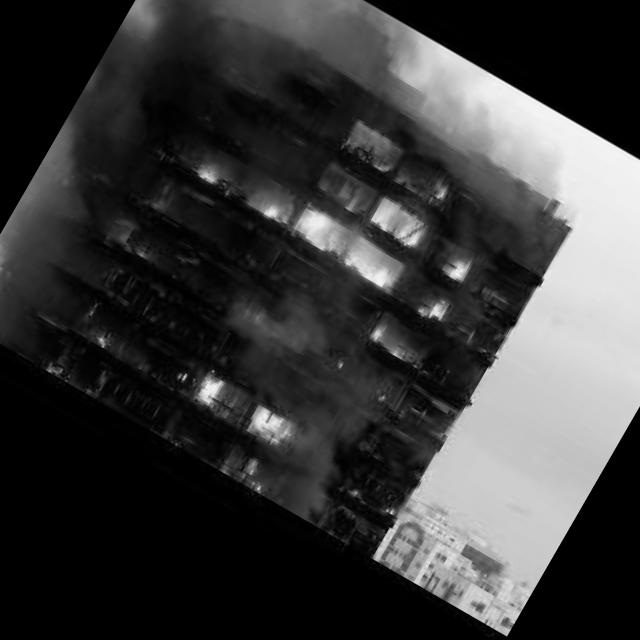fire: (172, 65, 538, 383), (168, 370, 306, 496), (89, 326, 119, 358)
smoke: (0, 0, 283, 368), (237, 0, 603, 226), (196, 268, 384, 441), (267, 358, 406, 530)
